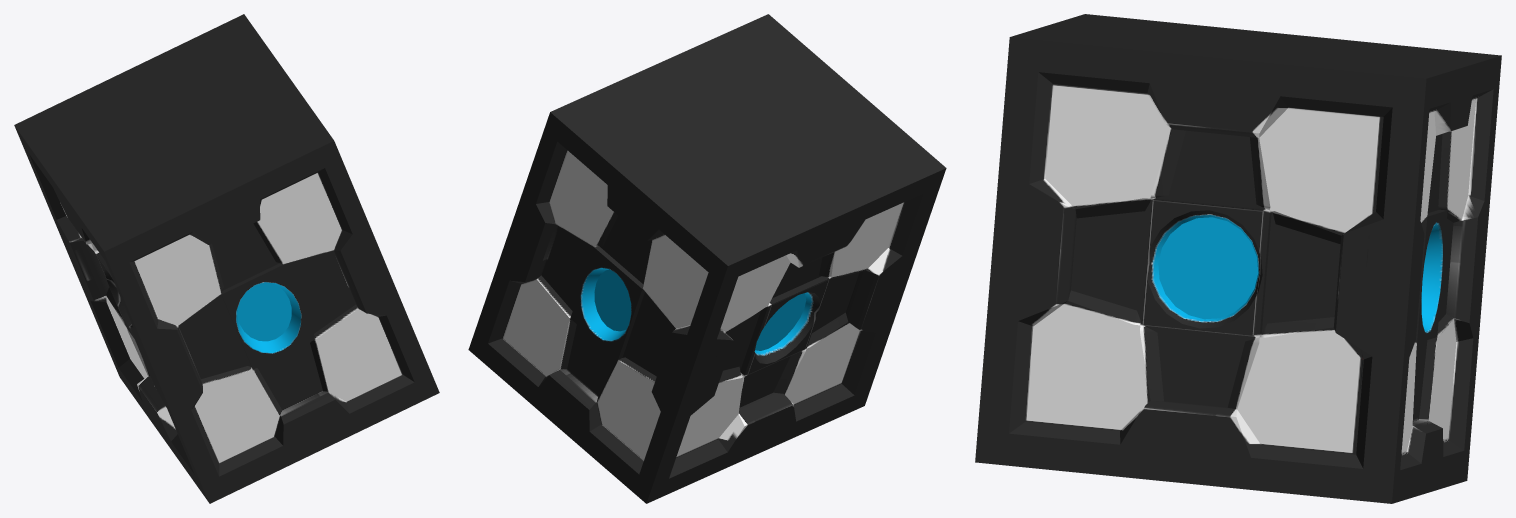
The model's file is Start_screen_patrol_cube.fbx.
The picture shows the model from 3 angles, left to right: view 1: azimuth 30°, elevation 25°; view 2: azimuth 150°, elevation 25°; view 3: azimuth 270°, elevation 25°; orthographic projection. The views are drawn at different scales.
Parts seen in each view (by area): view 1: Patrol_Cube; view 2: Patrol_Cube; view 3: Patrol_Cube.
Boxes of the visible parts, x1,y1,x2,y2 form: Patrol_Cube: (14, 14, 439, 503); Patrol_Cube: (468, 14, 946, 503); Patrol_Cube: (975, 14, 1501, 503).
Bounding box in the file's own units: 12.48 × 11.59 × 11.64.
